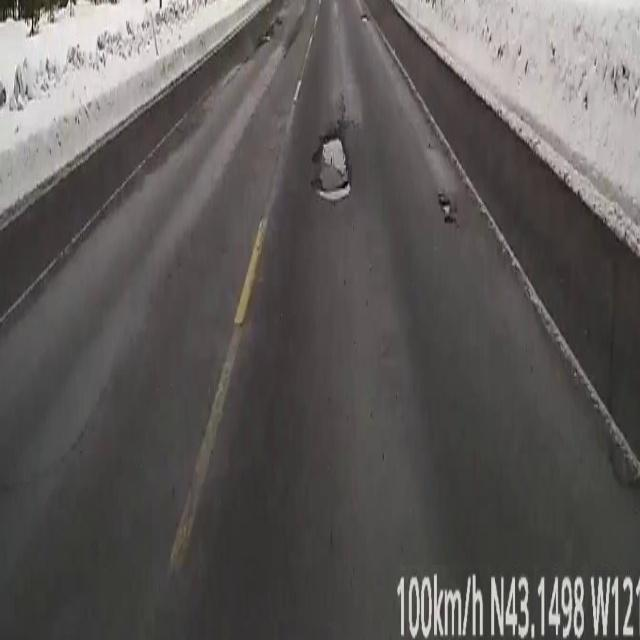pothole: (312, 132, 351, 198), (439, 200, 454, 222)
